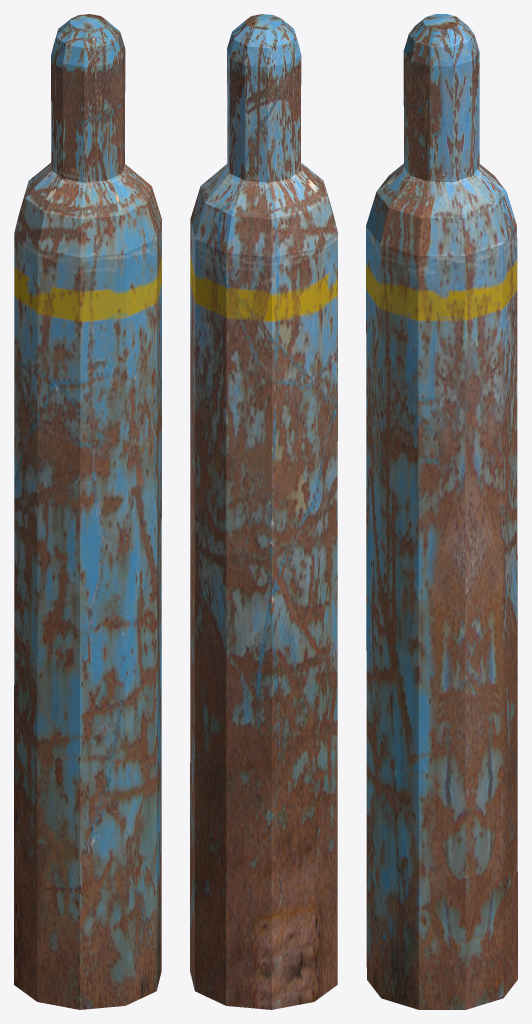
The model's file is gbottle3.fbx.
The picture shows the model from 3 angles, left to right: view 1: azimuth 30°, elevation 25°; view 2: azimuth 150°, elevation 25°; view 3: azimuth 270°, elevation 25°; orthographic projection.
Visible parts, largest first — view 1: gbottle3_Layer1; view 2: gbottle3_Layer1; view 3: gbottle3_Layer1.
Part boxes in pixels (x1,y1,x2,y2): gbottle3_Layer1: (14,14,161,1009); gbottle3_Layer1: (190,14,337,1009); gbottle3_Layer1: (366,14,517,1009).
Bounding box in the file's own units: 15.22 × 112 × 16.08.
Materials: 1 (1 with a texture image).
